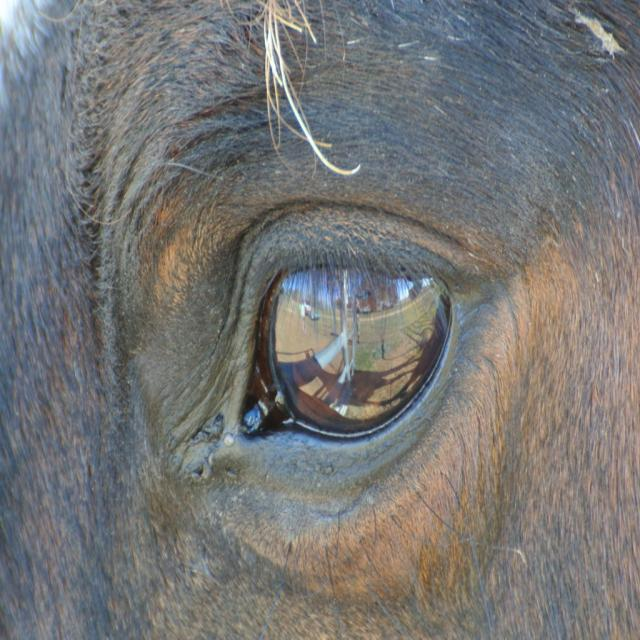Horse: (0, 0, 638, 639)
